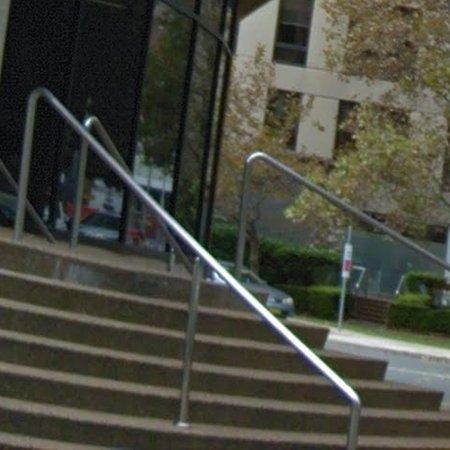stairs: (0, 231, 348, 450), (293, 324, 450, 450)
